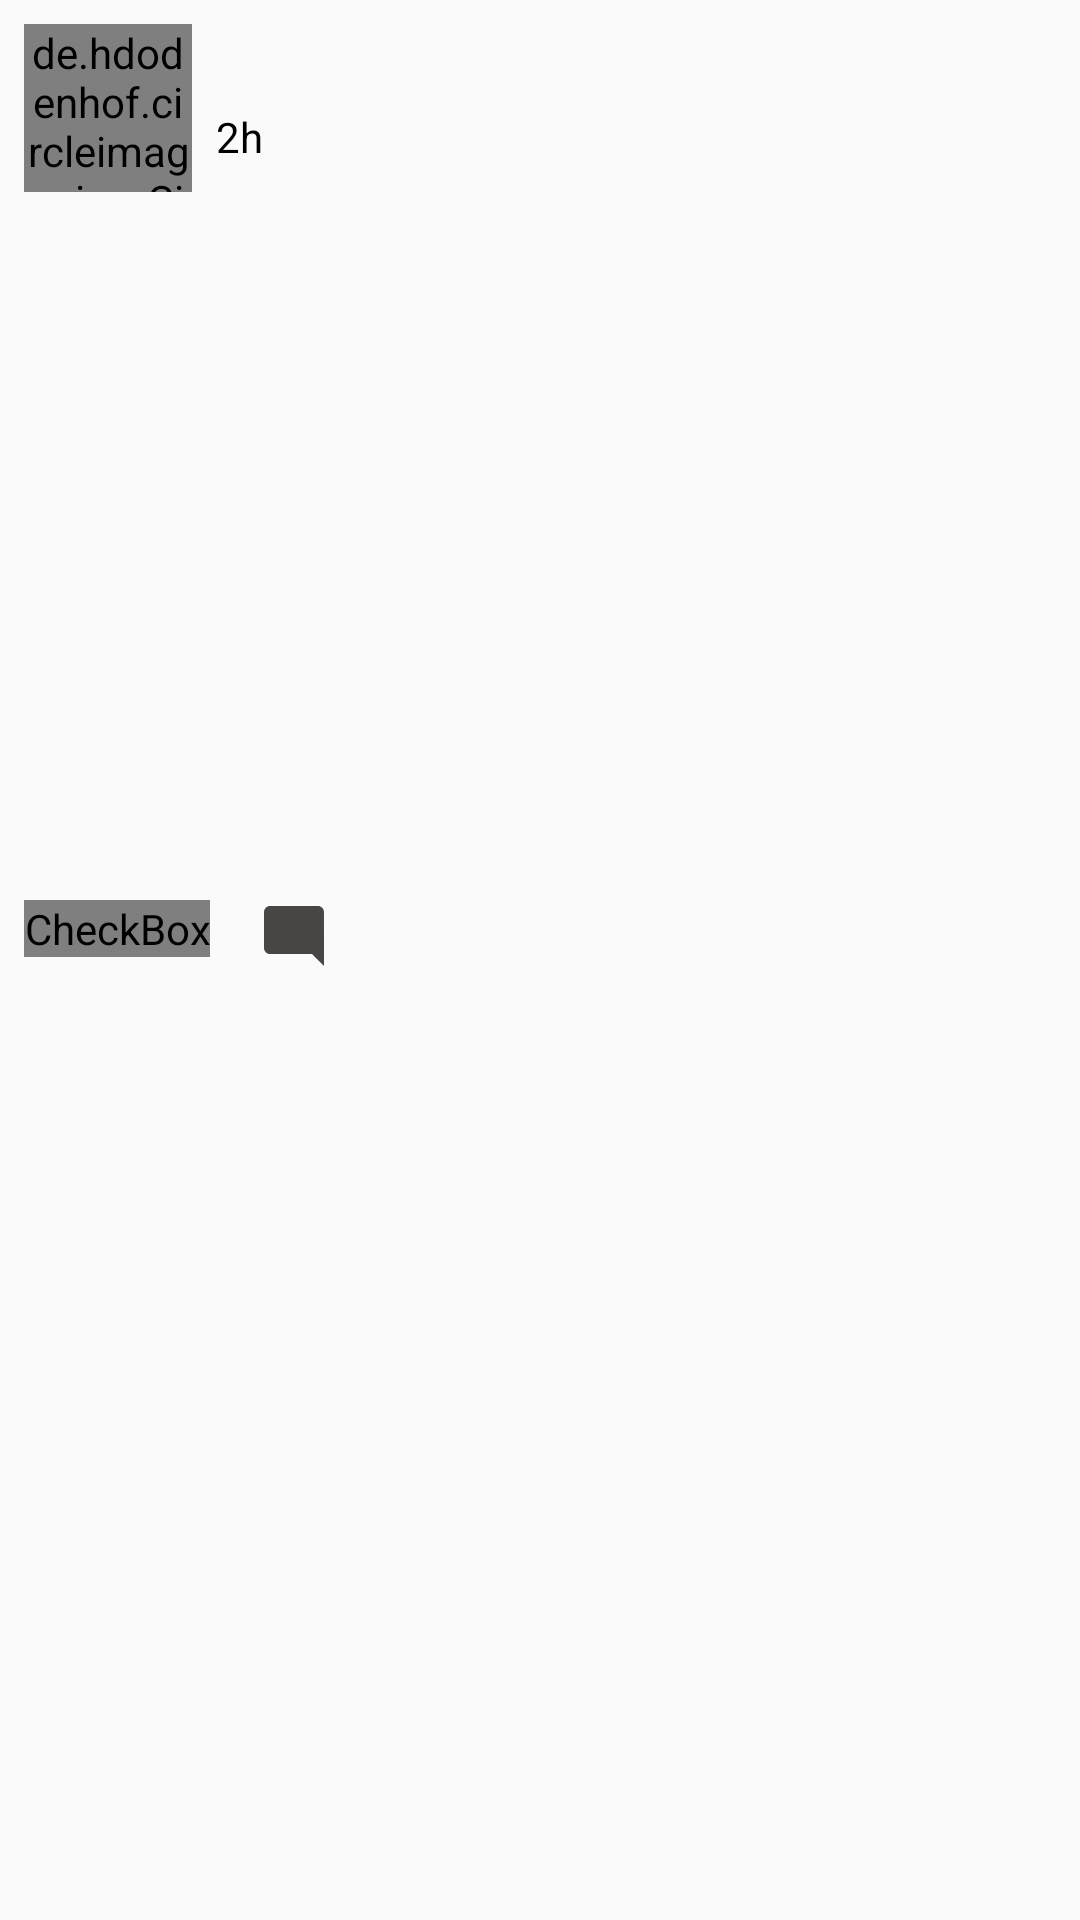

Screen size 1080×1920. Icon name, then its center in pixels as point (x, y):
mode comment: point (294, 936)
